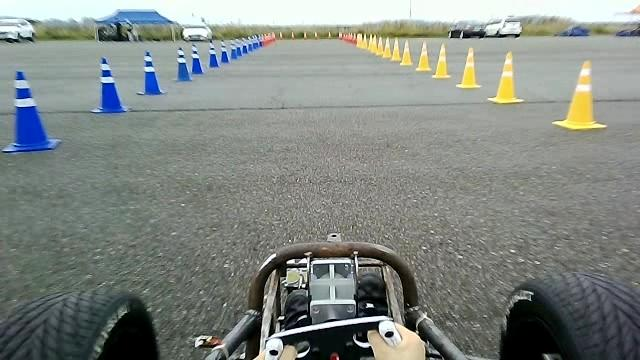blue cone: (2, 69, 61, 152), (90, 56, 127, 113), (135, 50, 166, 95), (174, 45, 192, 81), (190, 43, 203, 74), (208, 40, 219, 67), (220, 39, 229, 62)
yellow cone: (552, 59, 607, 130), (487, 50, 524, 103), (456, 47, 481, 88), (432, 42, 451, 78), (415, 40, 431, 71), (399, 38, 412, 66), (390, 36, 401, 62), (382, 36, 391, 58)
